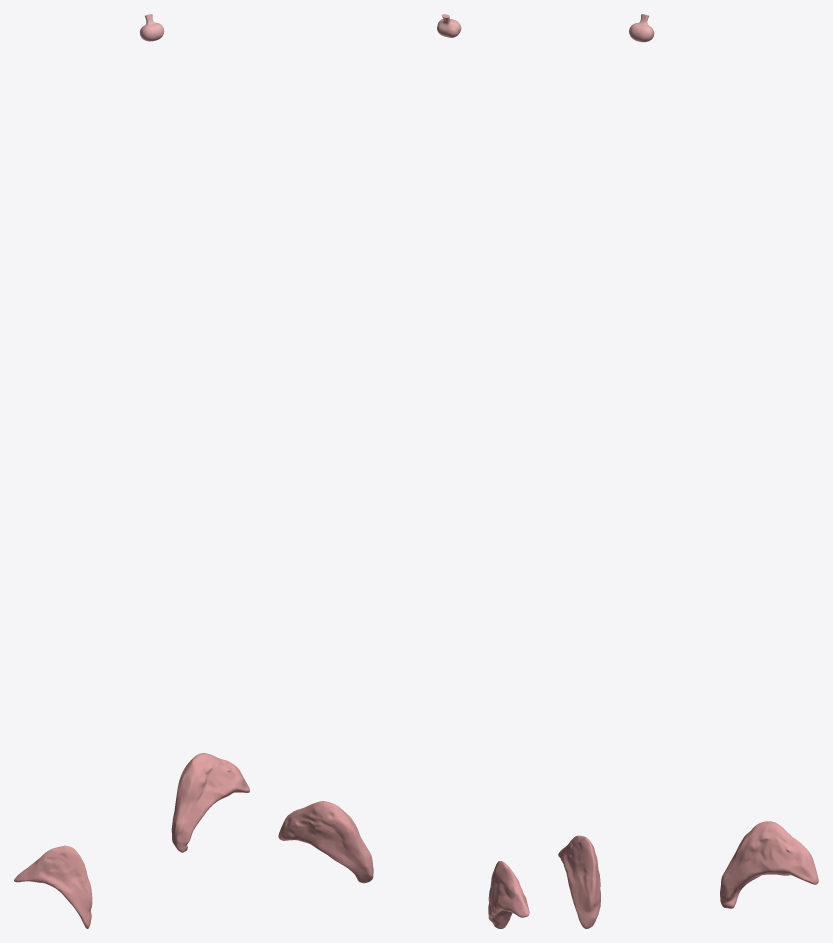
File: endocrine.v1.glb
3 renders of one model, left to right at view 1: azimuth 30°, elevation 25°; view 2: azimuth 150°, elevation 25°; view 3: azimuth 330°, elevation 25°, orthographic. The views are drawn at different scales.
Visible parts, largest first — view 1: left_adrenal_gland, right_adrenal_gland; view 2: left_adrenal_gland, right_adrenal_gland; view 3: left_adrenal_gland, right_adrenal_gland.
Part boxes in pixels (x1,y1,x2,y2): left_adrenal_gland: [171, 753, 249, 852]; right_adrenal_gland: [14, 845, 92, 928]; left_adrenal_gland: [278, 801, 373, 883]; right_adrenal_gland: [488, 861, 529, 928]; left_adrenal_gland: [720, 821, 818, 908]; right_adrenal_gland: [558, 835, 600, 928].
Bounding box in the file's own units: 0.138 × 0.49 × 0.0474.
